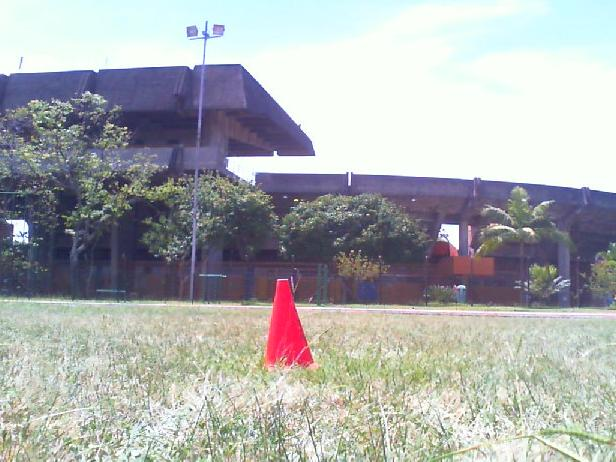0 cone: (263, 280, 321, 370)
